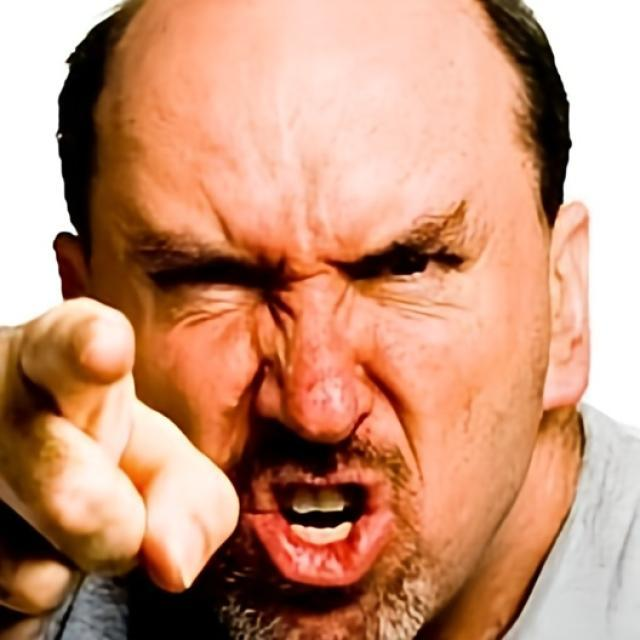anger: (81, 3, 542, 640)
